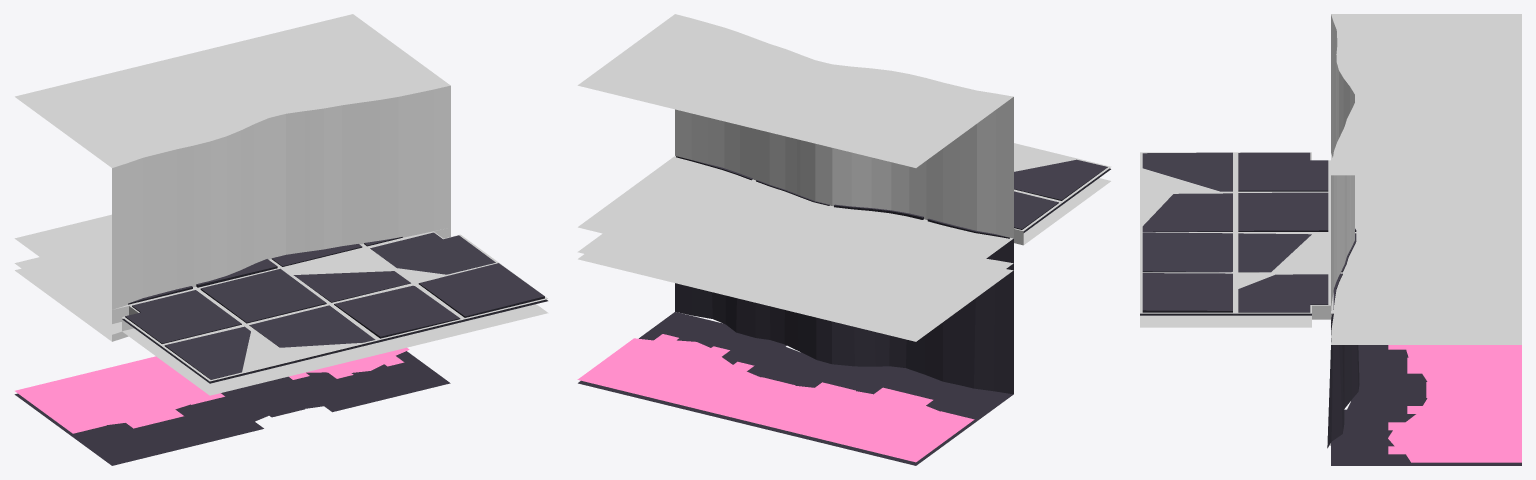
File: Tile_LLFF.fbx
The picture shows the model from 3 angles, left to right: view 1: azimuth 30°, elevation 25°; view 2: azimuth 150°, elevation 25°; view 3: azimuth 270°, elevation 25°; orthographic projection. The views are drawn at different scales.
Parts seen in each view (by area): view 1: Tile_LLFF_ColCrackBlocker, Tile_LLFF, Tile_LLFF_ColGround, Tile_LLFF_ColCrackSurface; view 2: Tile_LLFF_ColCrackBlocker, Tile_LLFF, Tile_LLFF_ColCrackSurface, Tile_LLFF_ColGround; view 3: Tile_LLFF_ColCrackBlocker, Tile_LLFF, Tile_LLFF_ColGround, Tile_LLFF_ColCrackSurface.
Part boxes in pixels (x1=…): Tile_LLFF_ColCrackBlocker: x1=14, y1=14, x2=450, y2=309; Tile_LLFF: x1=14, y1=232, x2=547, y2=465; Tile_LLFF_ColGround: x1=112, y1=227, x2=548, y2=395; Tile_LLFF_ColCrackSurface: x1=14, y1=257, x2=128, y2=341; Tile_LLFF_ColCrackBlocker: x1=577, y1=14, x2=1013, y2=309; Tile_LLFF: x1=577, y1=156, x2=1110, y2=465; Tile_LLFF_ColCrackSurface: x1=577, y1=233, x2=1013, y2=341; Tile_LLFF_ColGround: x1=1014, y1=143, x2=1111, y2=245; Tile_LLFF_ColCrackBlocker: x1=1331, y1=14, x2=1521, y2=313; Tile_LLFF: x1=1140, y1=152, x2=1521, y2=465; Tile_LLFF_ColGround: x1=1140, y1=152, x2=1332, y2=327; Tile_LLFF_ColCrackSurface: x1=1331, y1=313, x2=1521, y2=344.
Size of the model in its own units: 5 by 4.2 by 5.
